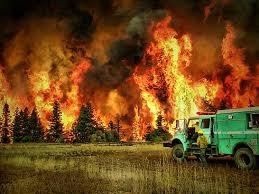fire: (10, 16, 212, 143)
